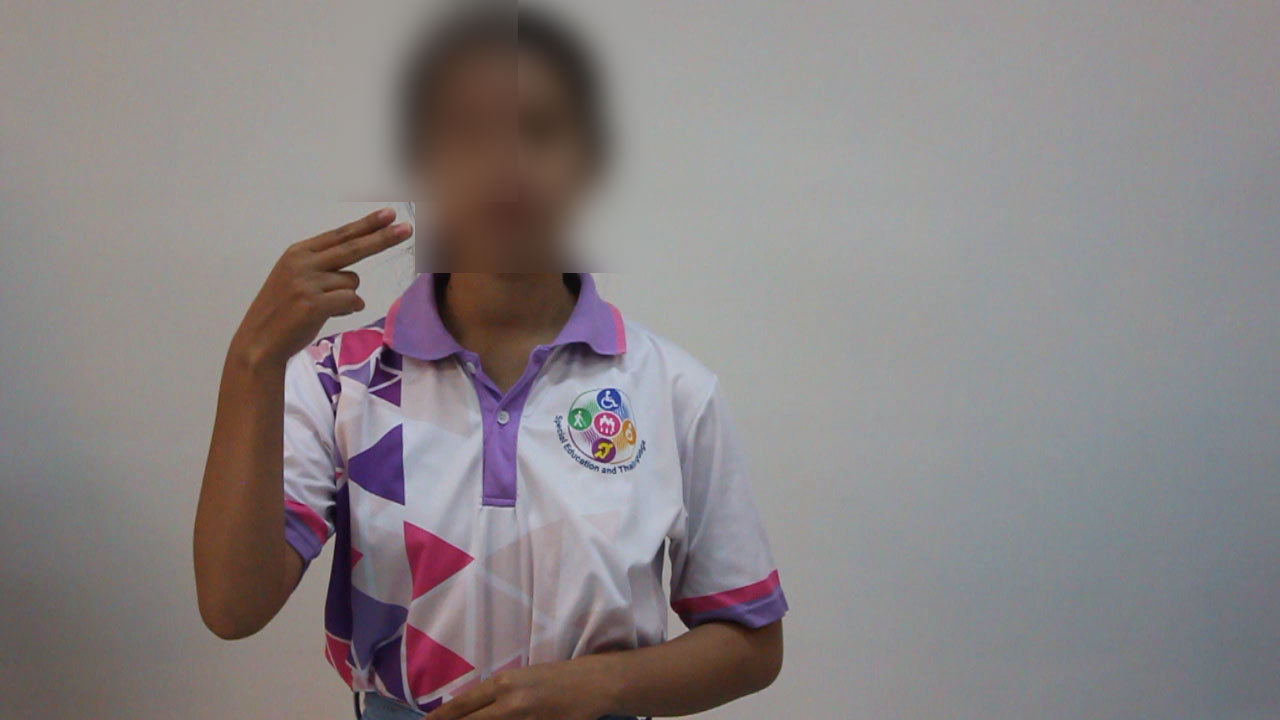hor: (222, 202, 429, 370)
